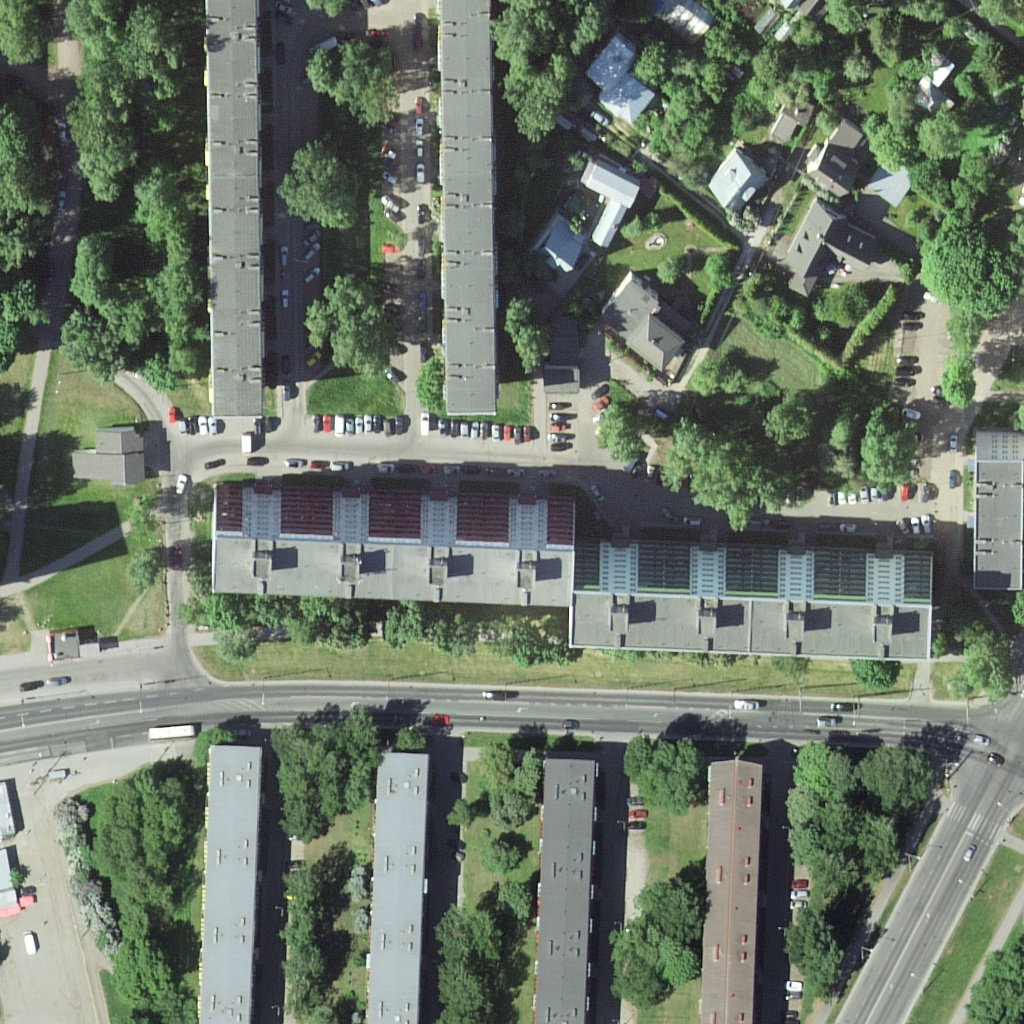building: (570, 542, 940, 672), (212, 477, 582, 601), (437, 9, 503, 427), (194, 744, 269, 1024), (696, 760, 767, 1024), (366, 754, 432, 1024), (532, 758, 598, 1024), (966, 425, 1024, 591), (611, 271, 693, 371), (66, 421, 153, 488), (593, 33, 654, 123), (801, 212, 872, 282), (581, 155, 636, 240), (806, 121, 863, 191), (529, 213, 579, 283), (715, 137, 758, 212)
